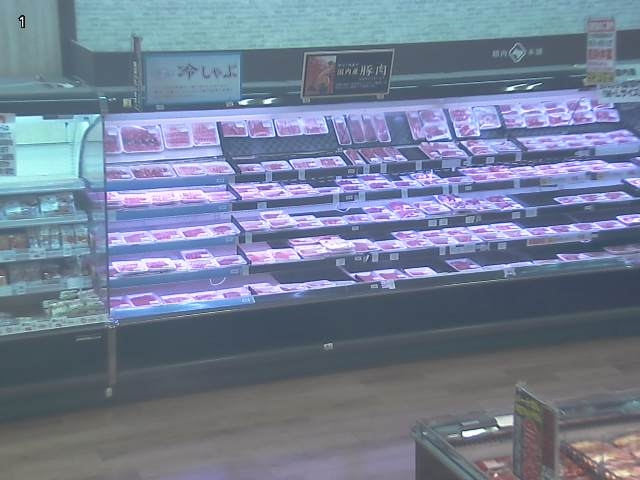meat: (92, 159, 637, 210), (245, 212, 639, 266), (103, 267, 434, 311), (239, 191, 523, 232), (106, 248, 247, 279), (104, 122, 220, 155), (501, 98, 620, 128), (518, 128, 639, 152), (103, 160, 238, 180), (105, 224, 239, 244), (220, 116, 328, 137), (418, 139, 520, 161), (333, 114, 391, 146), (239, 156, 347, 173), (450, 106, 501, 137), (403, 108, 450, 139), (559, 245, 639, 262), (555, 190, 635, 206), (342, 146, 405, 163), (447, 260, 481, 270)
meatless: (101, 237, 636, 300), (104, 120, 350, 171), (0, 119, 97, 193), (480, 106, 621, 150), (0, 289, 109, 328), (510, 185, 639, 207), (1, 192, 86, 223), (0, 257, 90, 286), (516, 208, 639, 229), (1, 225, 89, 253), (107, 219, 230, 233), (110, 249, 187, 261), (387, 113, 414, 144), (292, 209, 365, 217), (240, 240, 291, 251), (396, 145, 430, 160), (279, 178, 336, 186), (207, 245, 238, 255)
